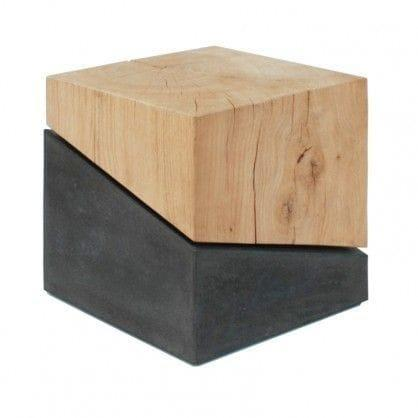cubos: (28, 35, 383, 371)
